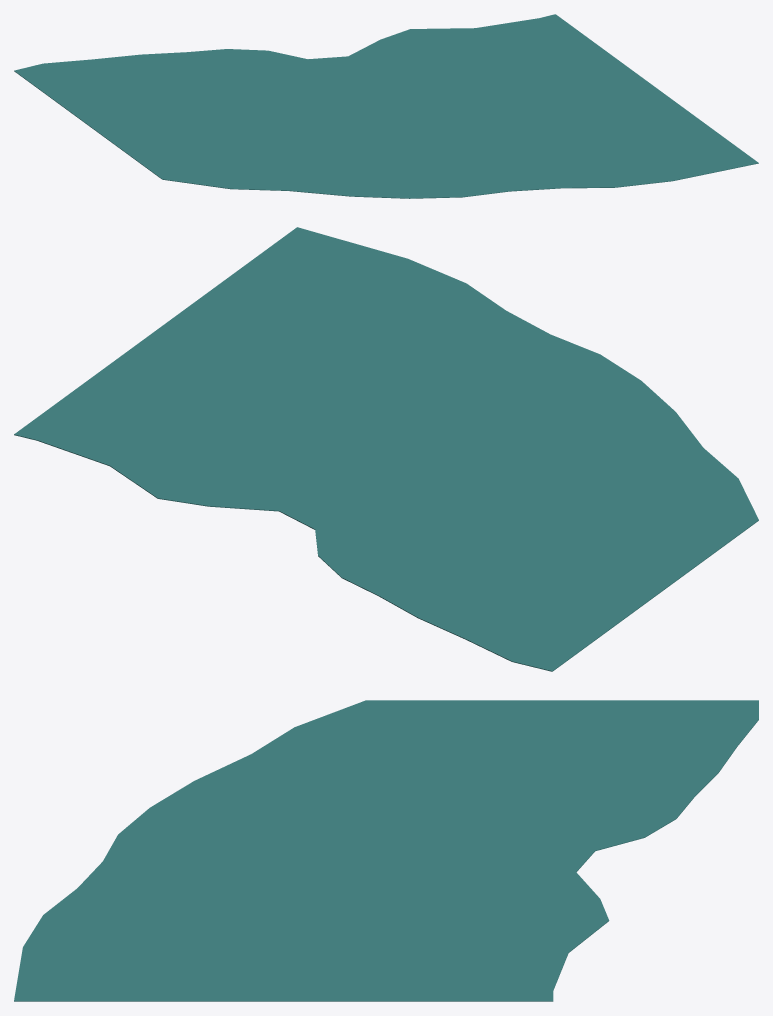
The model's file is lady-bird-lake-surface.glb.
3 renders of one model, top to bottom at view 1: azimuth 30°, elevation 25°; view 2: azimuth 150°, elevation 25°; view 3: azimuth 270°, elevation 25°, orthographic. The views are drawn at different scales.
Visible parts, largest first — view 1: 41 _ Lake surface - optional context__Lake water - blue gree; view 2: 41 _ Lake surface - optional context__Lake water - blue gree; view 3: 41 _ Lake surface - optional context__Lake water - blue gree.
Boxes of the visible parts, x1=… form: 41 _ Lake surface - optional context__Lake water - blue gree: x1=14, y1=14, x2=758, y2=198; 41 _ Lake surface - optional context__Lake water - blue gree: x1=14, y1=227, x2=758, y2=671; 41 _ Lake surface - optional context__Lake water - blue gree: x1=14, y1=700, x2=758, y2=1001.
Bounding box in the file's own units: 560 × 0.6001 × 587.
